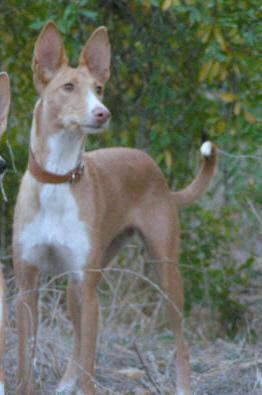Ibizan_hound: (10, 20, 218, 393)
